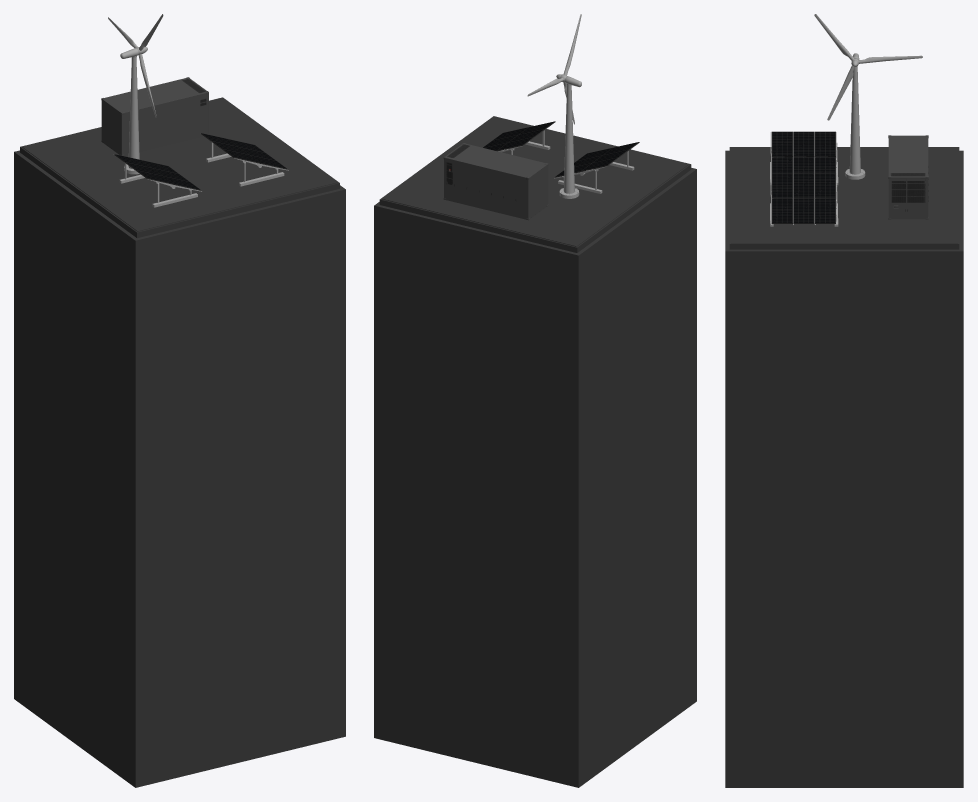
File: station.glb
The picture shows the model from 3 angles, left to right: view 1: azimuth 30°, elevation 25°; view 2: azimuth 150°, elevation 25°; view 3: azimuth 270°, elevation 25°; orthographic projection. The views are drawn at different scales.
Visible parts, largest first — view 1: 底座, 储能, 风能底座, 光伏面板2, 光伏面板1, 风能叶片; view 2: 底座, 储能, 风能底座, 光伏面板2, 光伏面板1; view 3: 底座, 储能, 光伏面板1, 光伏面板2, 风能底座, 风能叶片.
Part boxes in pixels (box(x1,y1,x2,y2)): 底座: box(14, 97, 345, 787); 储能: box(101, 77, 208, 155); 风能底座: box(120, 47, 147, 174); 光伏面板2: box(114, 154, 200, 190); 光伏面板1: box(200, 133, 287, 169); 风能叶片: box(108, 14, 163, 117); 底座: box(374, 116, 696, 787); 储能: box(443, 143, 548, 220); 风能底座: box(556, 74, 581, 198); 光伏面板2: box(555, 142, 639, 177); 光伏面板1: box(483, 121, 555, 151); 底座: box(725, 147, 963, 787); 储能: box(888, 135, 928, 219); 光伏面板1: box(771, 173, 835, 223); 光伏面板2: box(771, 131, 835, 172); 风能底座: box(845, 53, 865, 179); 风能叶片: box(814, 14, 922, 120).
Size of the model in its own units: 2.17 by 7.12 by 2.17.
Materials: 5 (2 with a texture image).
